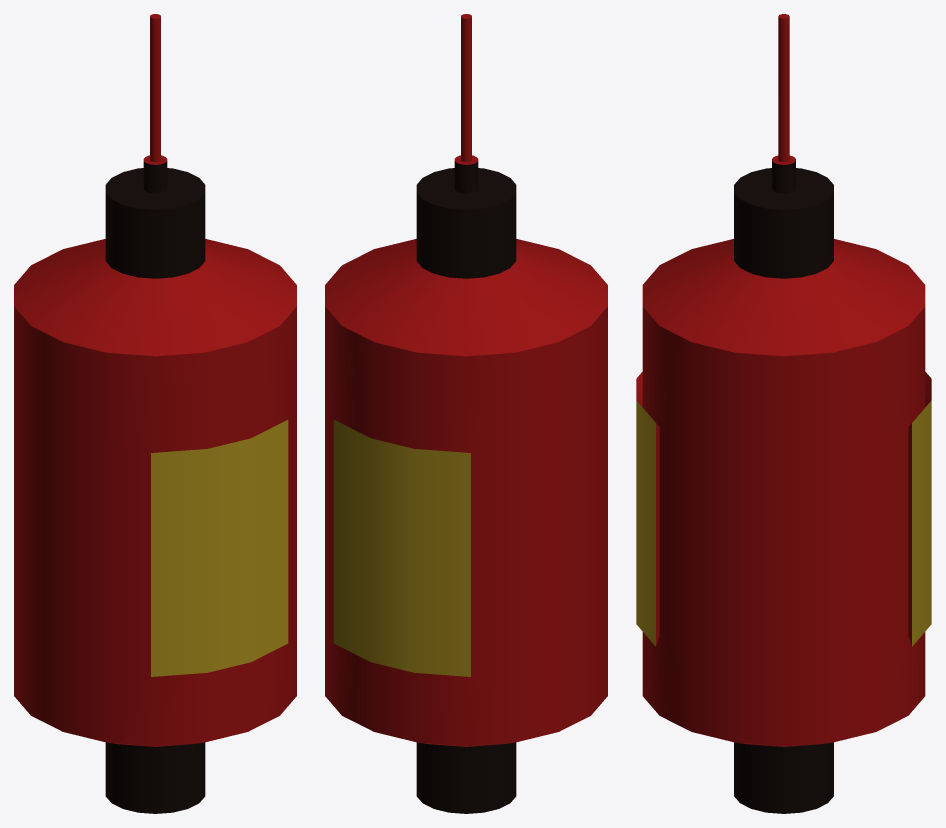
The model's file is Lantern001_M_v1_Carrie.FBX.
3 renders of one model, left to right at view 1: azimuth 30°, elevation 25°; view 2: azimuth 150°, elevation 25°; view 3: azimuth 270°, elevation 25°, orthographic.
Visible parts, largest first — view 1: lantern001; view 2: lantern001; view 3: lantern001.
Boxes of the visible parts, x1,y1,x2,y2 form: lantern001: [14, 14, 296, 813]; lantern001: [325, 14, 607, 813]; lantern001: [636, 14, 931, 813].
Size of the model in its own units: 90.77 by 271 by 93.39.
